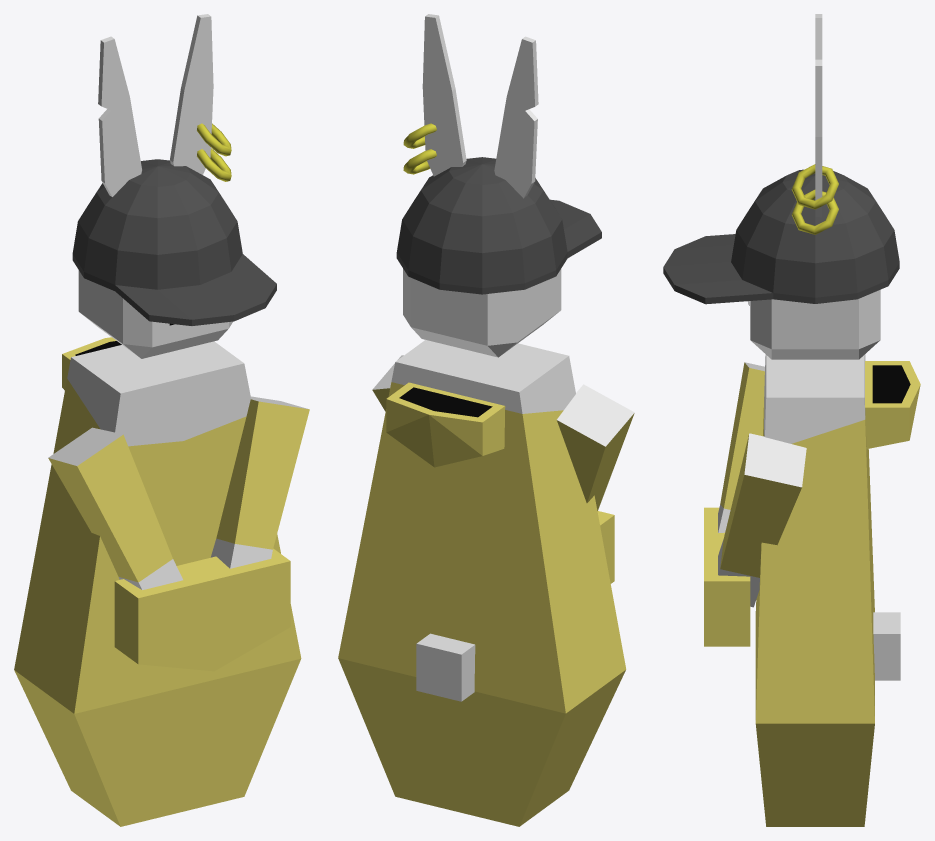
The model's file is player.fbx.
3 renders of one model, left to right at view 1: azimuth 30°, elevation 25°; view 2: azimuth 150°, elevation 25°; view 3: azimuth 270°, elevation 25°, orthographic.
Parts seen in each view (by area): view 1: Cube.019, Cube.018, Torus; view 2: Cube.019, Cube.018, Torus; view 3: Cube.019, Cube.018, Torus.
Part boxes in pixels (x1,y1,x2,y2): Cube.019: [14, 337, 309, 826]; Cube.018: [72, 14, 276, 358]; Torus: [197, 123, 231, 181]; Cube.019: [338, 340, 634, 826]; Cube.018: [396, 14, 601, 357]; Torus: [403, 123, 436, 174]; Cube.019: [704, 354, 920, 826]; Cube.018: [663, 14, 899, 359]; Torus: [791, 164, 838, 234].
Size of the model in its own units: 74.03 by 233 by 71.56.
